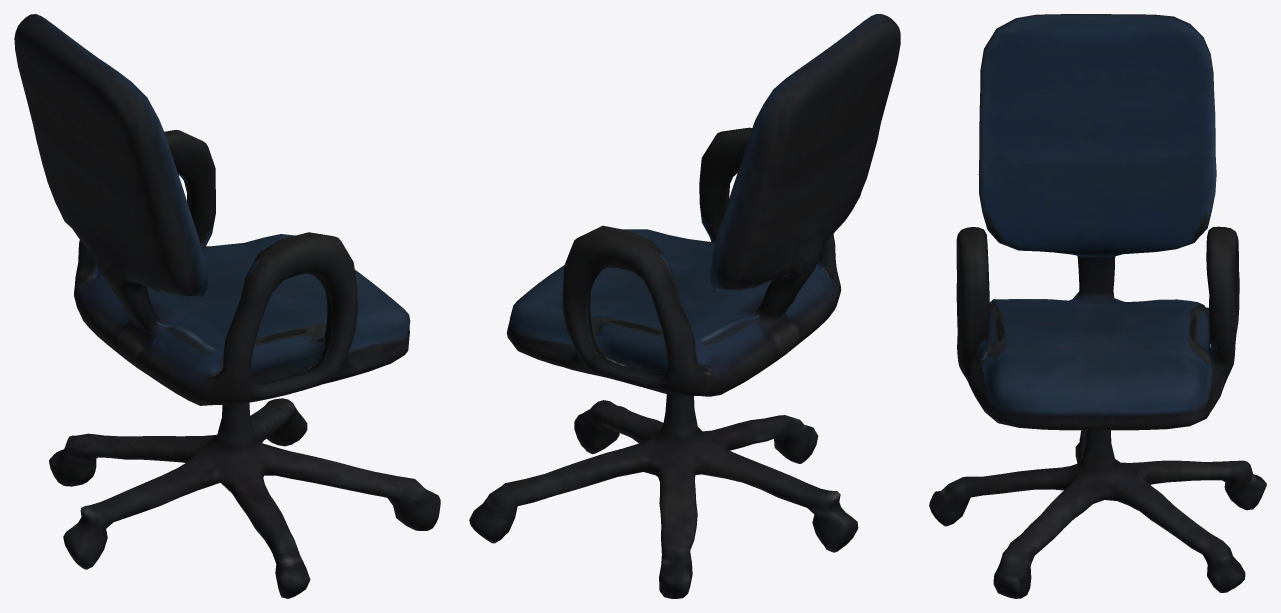
The model's file is office_chair.fbx.
3 renders of one model, left to right at view 1: azimuth 30°, elevation 25°; view 2: azimuth 150°, elevation 25°; view 3: azimuth 270°, elevation 25°, orthographic. The views are drawn at different scales.
Visible parts, largest first — view 1: mesh; view 2: mesh; view 3: mesh.
Boxes of the visible parts, x1,y1,x2,y2 form: mesh: [14, 14, 440, 598]; mesh: [469, 14, 900, 598]; mesh: [929, 14, 1266, 598].
Size of the model in its own units: 65.99 by 99.88 by 66.78.
